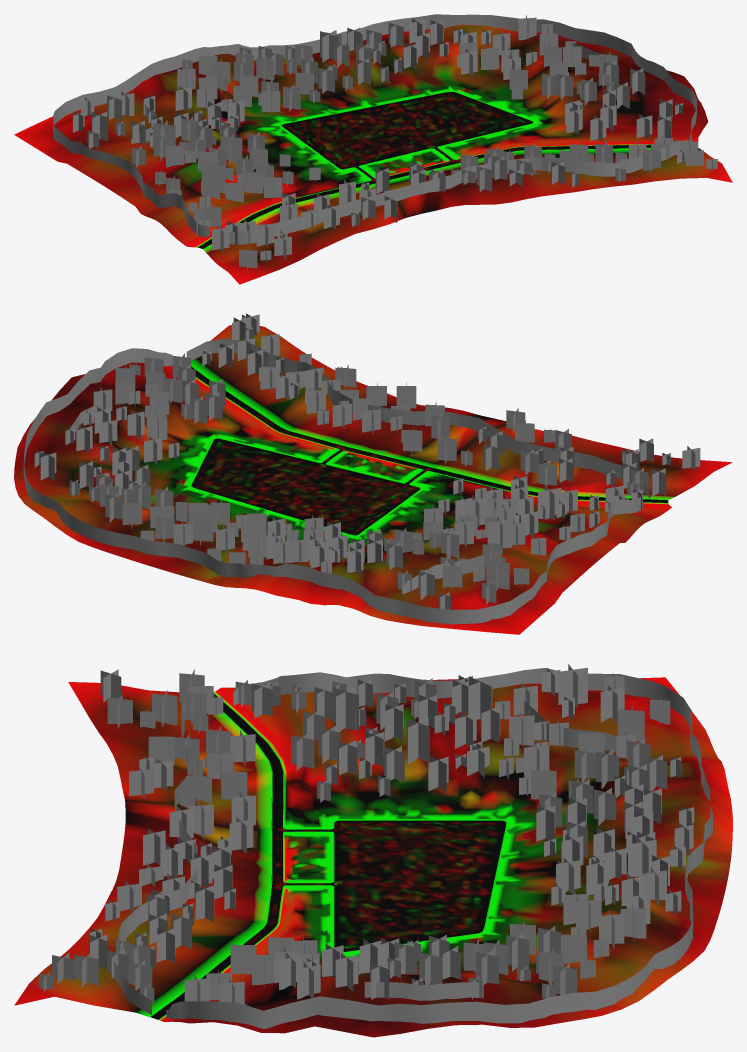
File: workshop_map_main.mesh.fbx
3 renders of one model, top to bottom at view 1: azimuth 30°, elevation 25°; view 2: azimuth 150°, elevation 25°; view 3: azimuth 270°, elevation 25°, orthographic. The views are drawn at different scales.
Visible parts, largest first — view 1: trees, terrain, road, roadside; view 2: trees, terrain, road, roadside; view 3: trees, terrain, road, roadside.
Boxes of the visible parts, bbox=[...] form: trees: bbox=[53, 14, 717, 270]; terrain: bbox=[14, 24, 732, 284]; road: bbox=[198, 92, 650, 248]; roadside: bbox=[197, 91, 650, 249]; trees: bbox=[23, 313, 700, 624]; terrain: bbox=[14, 325, 732, 634]; road: bbox=[191, 367, 668, 535]; roadside: bbox=[191, 366, 668, 535]; trees: bbox=[39, 664, 712, 1028]; terrain: bbox=[14, 677, 732, 1037]; road: bbox=[151, 694, 506, 1019]; roadside: bbox=[150, 693, 507, 1019].
Size of the model in its own units: 536 by 39.14 by 436.
